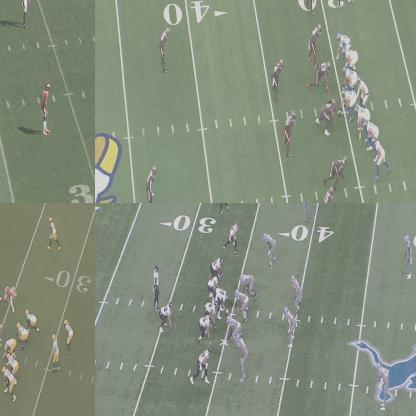CENTER: (339, 84, 354, 118), (218, 290, 230, 317), (5, 336, 17, 354)
DB: (376, 362, 391, 414), (40, 78, 50, 136), (404, 234, 414, 279), (147, 166, 159, 202), (160, 28, 170, 70), (21, 0, 31, 27), (324, 185, 335, 202), (305, 0, 321, 11), (299, 203, 309, 219), (0, 205, 2, 232)
LB: (270, 59, 284, 100), (283, 111, 295, 156), (290, 272, 301, 313), (283, 307, 294, 348), (237, 334, 247, 379), (264, 232, 275, 268)
QB: (357, 76, 368, 106), (51, 334, 59, 372), (153, 265, 159, 312)
SKILL: (372, 135, 387, 178), (197, 348, 213, 384), (228, 218, 242, 254), (336, 34, 350, 58), (48, 220, 59, 250), (161, 301, 172, 328), (65, 321, 73, 350), (219, 203, 231, 213)
